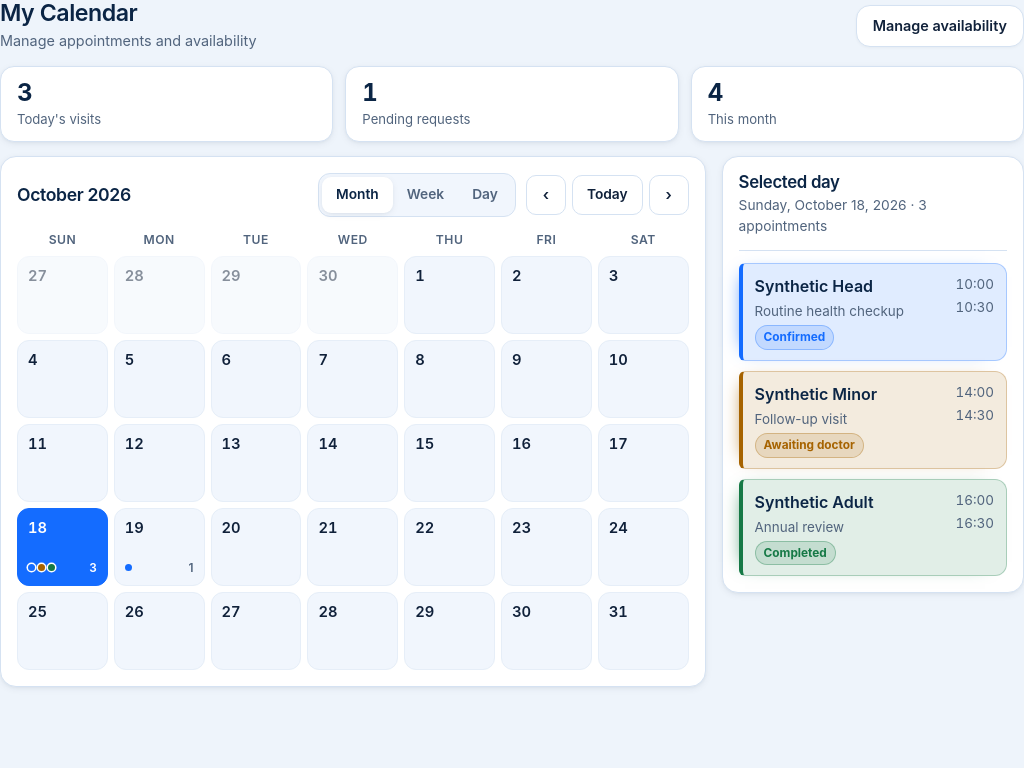
Test case: DoctorCalendarPage › offers only the actions the status allows
Click the button "Synthetic Minor": (816, 394) [739,370,1007,468]
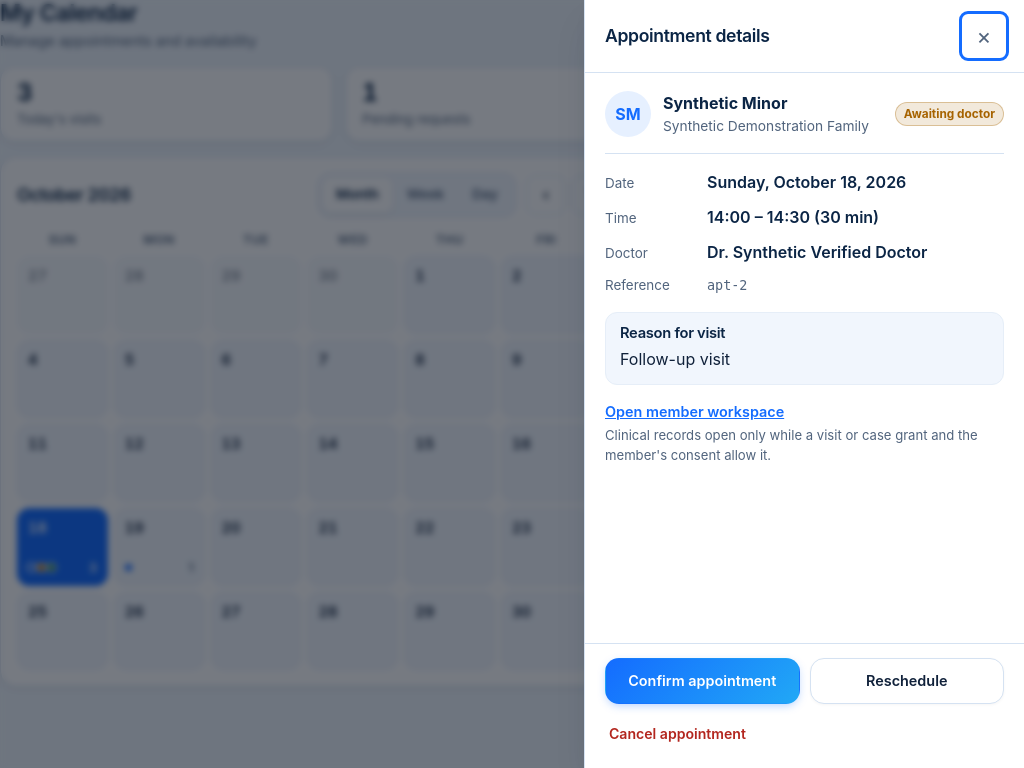
expect the button "Confirm appointment" is shown: met, box [605,658,800,704]
expect the button "Reschedule" is shown: met, box [810,658,1004,704]
expect the button "Cancel appointment" is shown: met, box [605,714,750,754]
Click the button named "Close appointment details": (984, 36) [964,16,1004,56]
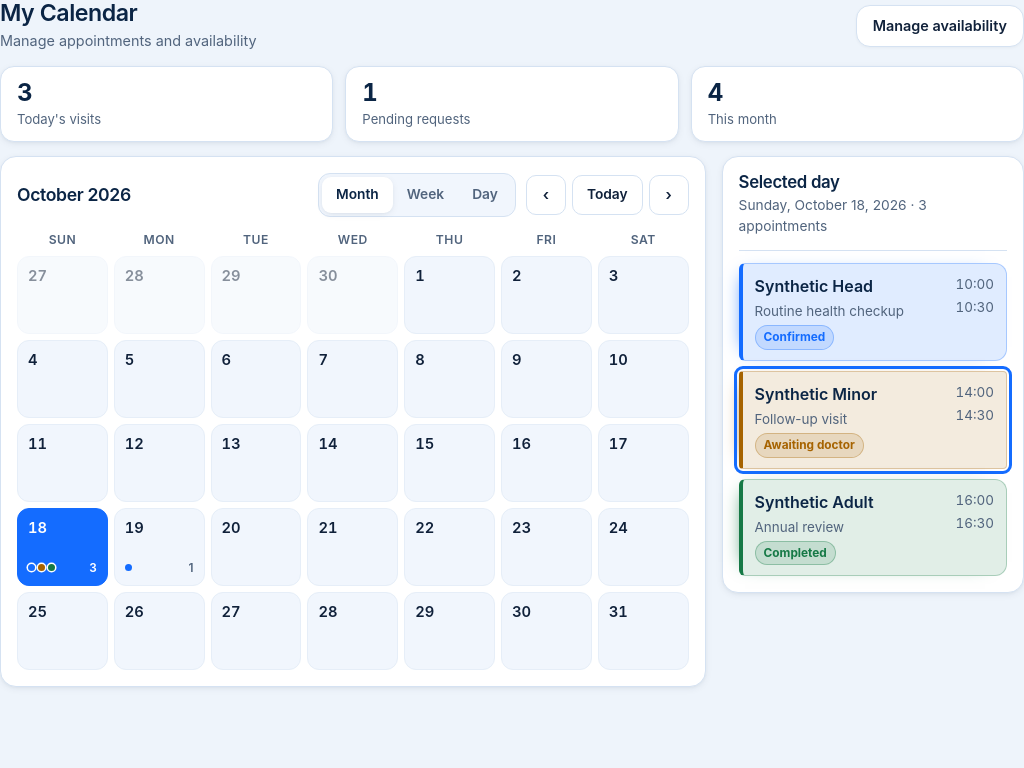
Click the button "Synthetic Adult": (814, 502) [739,478,1007,576]
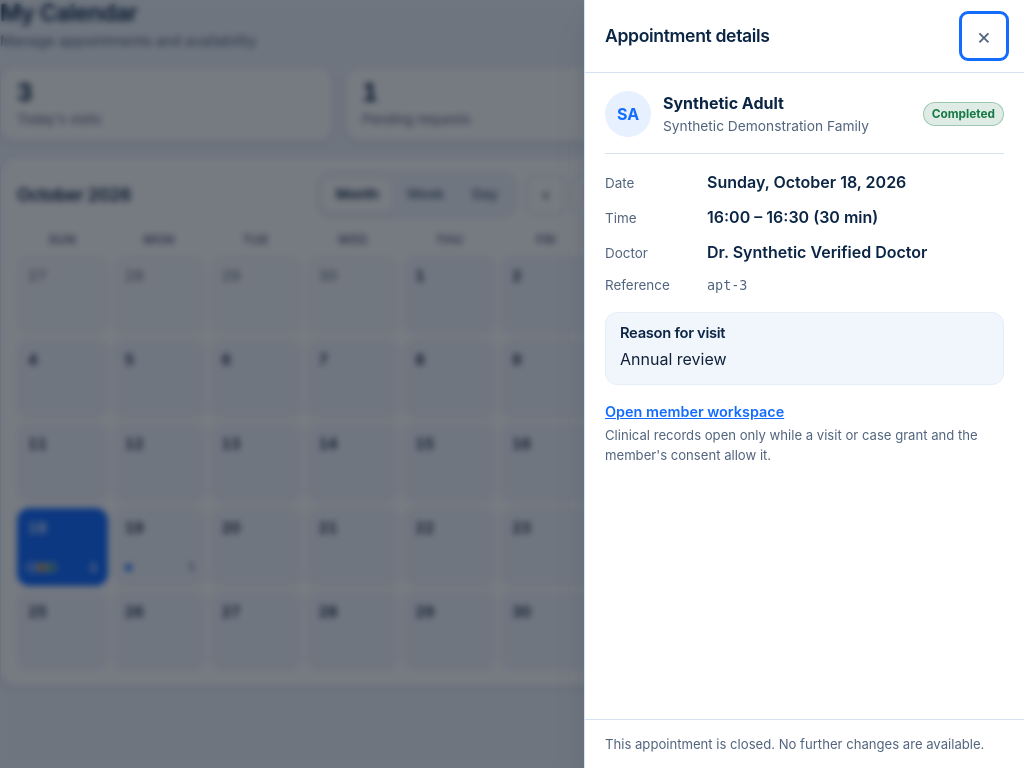
expect the button "Reschedule" is not shown: met
expect the text "This appointment is closed" is shown: met, box [605,736,984,752]
